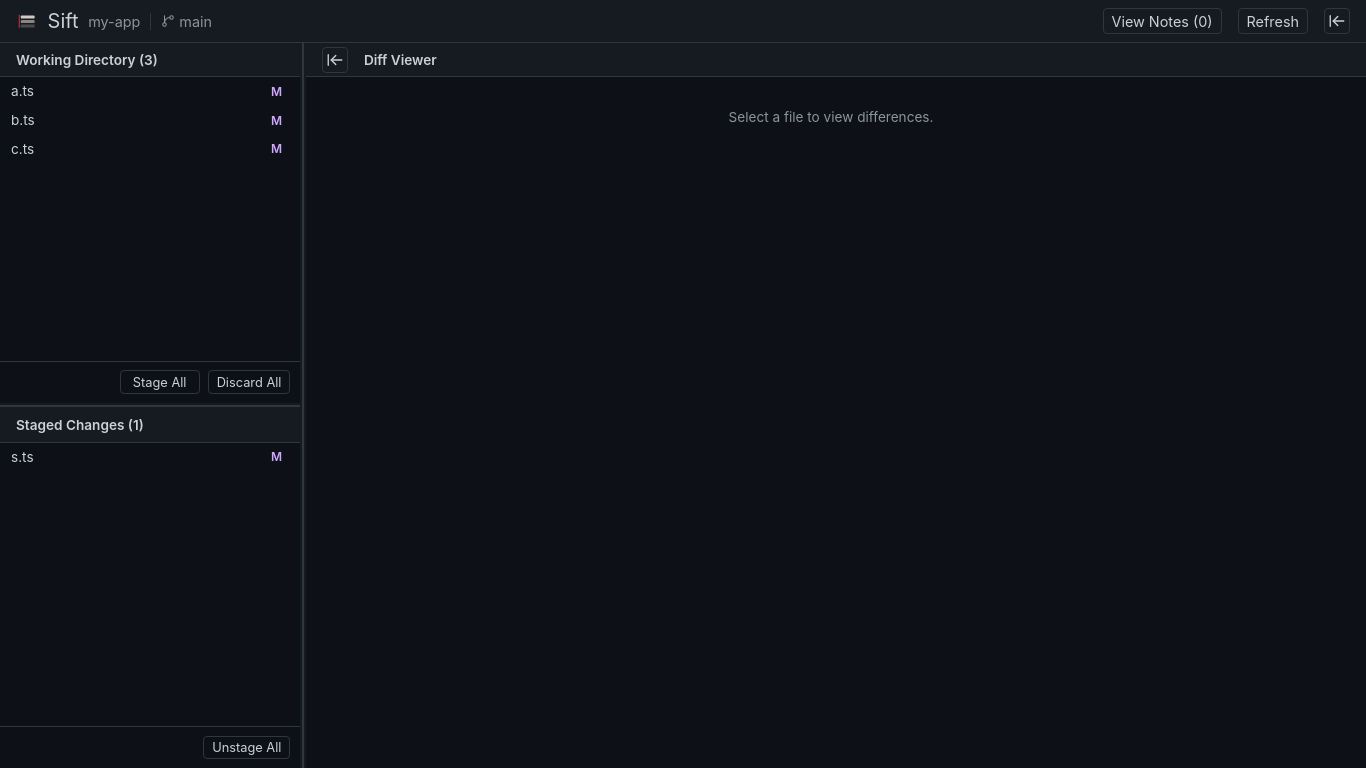
RepositoryViewerPage interactions › suspends background shortcuts while View Notes (0) is open on mac
Click the button "View Notes (0)" at (1162, 21), box [1102, 8, 1222, 34]
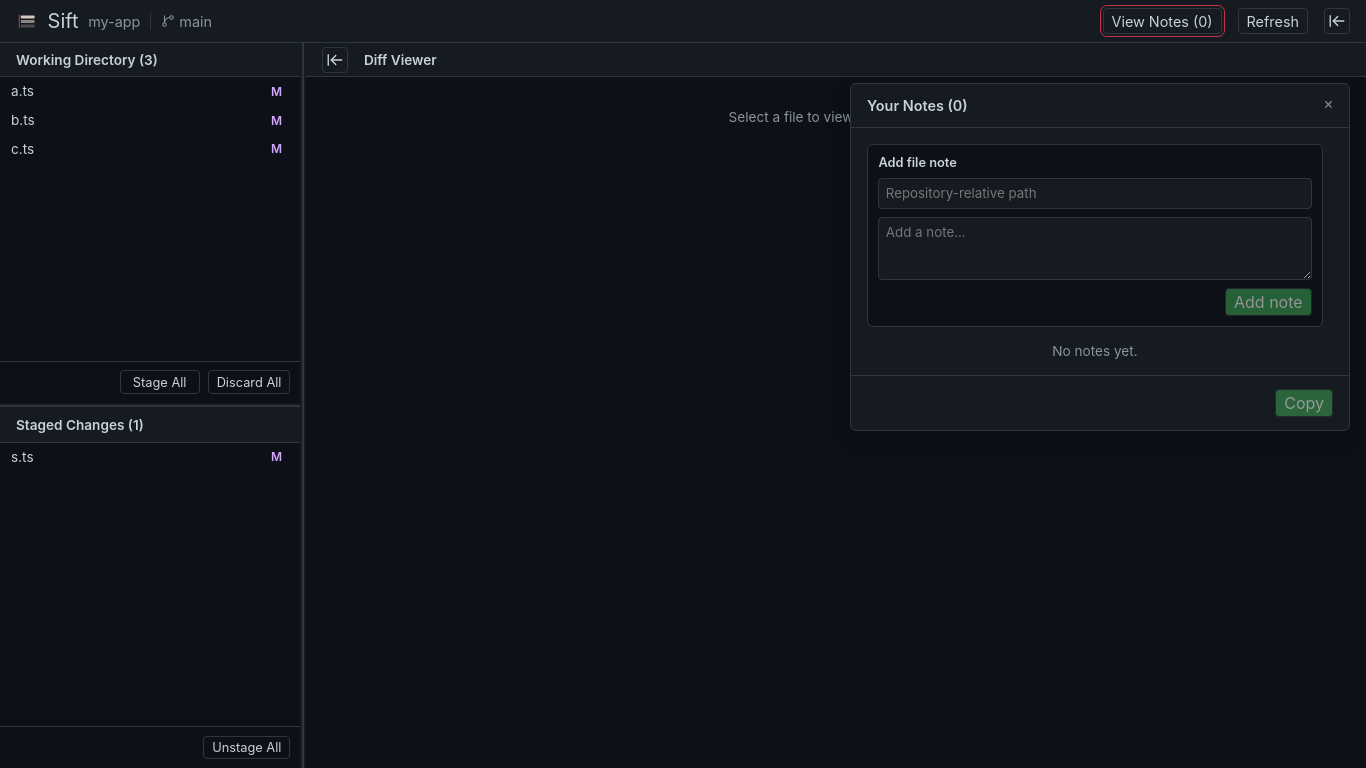
Press KeyB
Press KeyB in the element with test id "notes-modal-panel", box [850, 83, 1350, 431]
Expected: the number of lists named "Changed files" is 2, [0, 77, 290, 163]; [11, 449, 282, 465]
Expected: the button named "Hide file list" is shown, [322, 46, 348, 72]
Note: dismiss without confirming a destructive action, then retry both shortcuts
Click the button "×" at (1328, 105), box [1324, 97, 1333, 113]
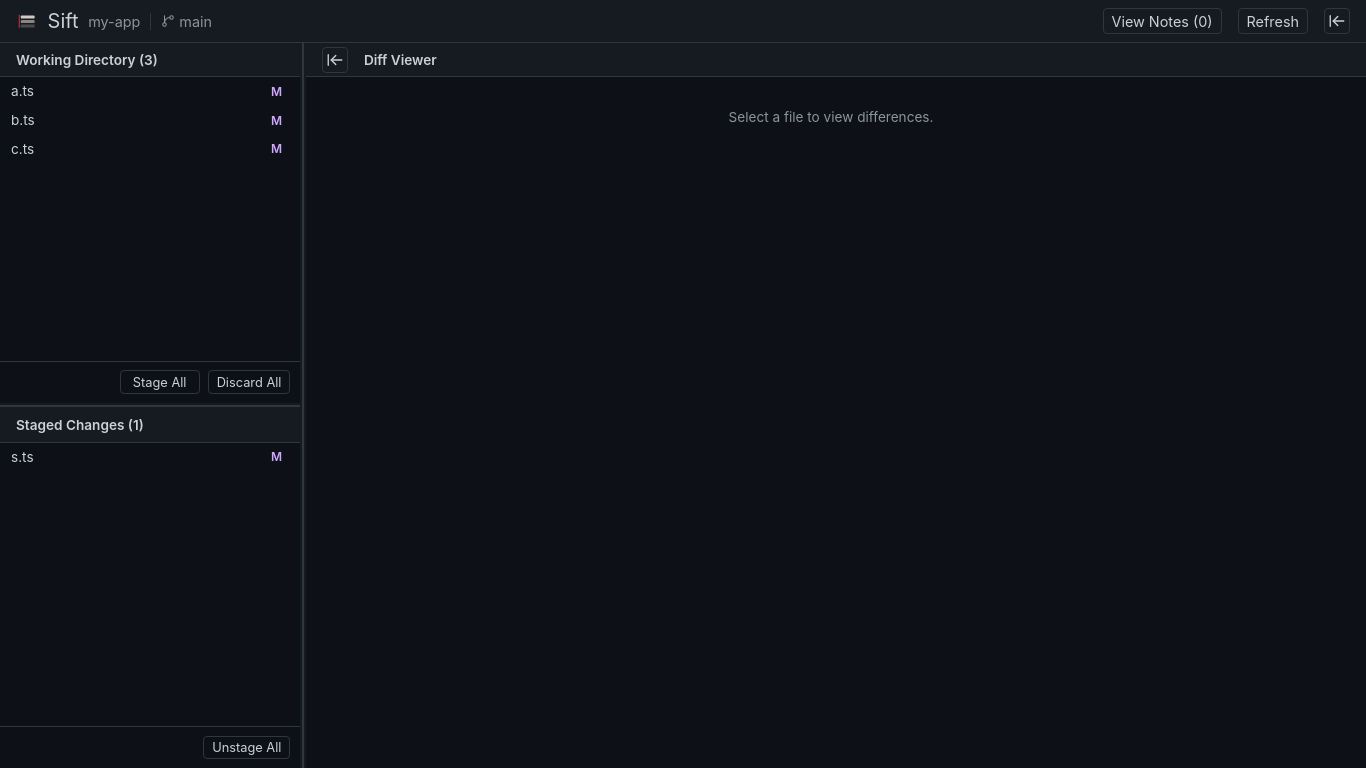
Press KeyB
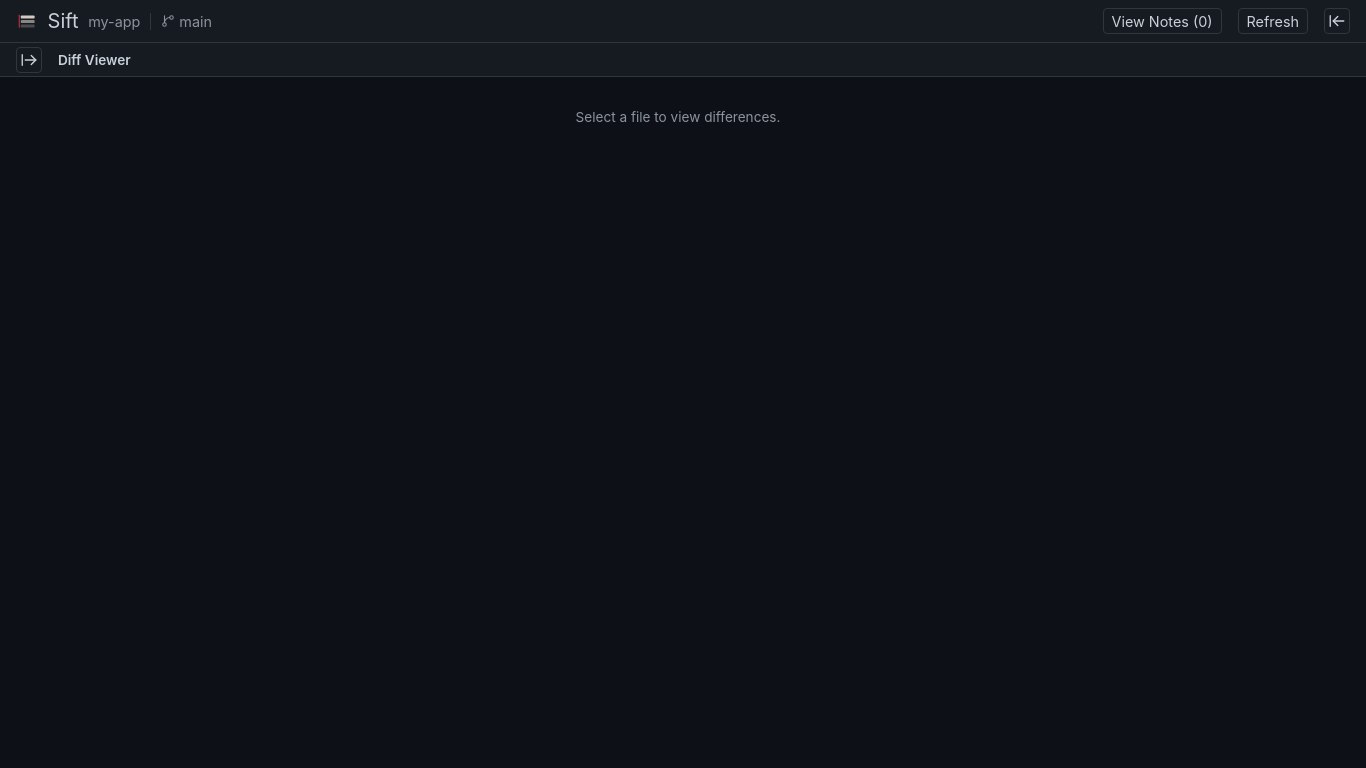
Press KeyB
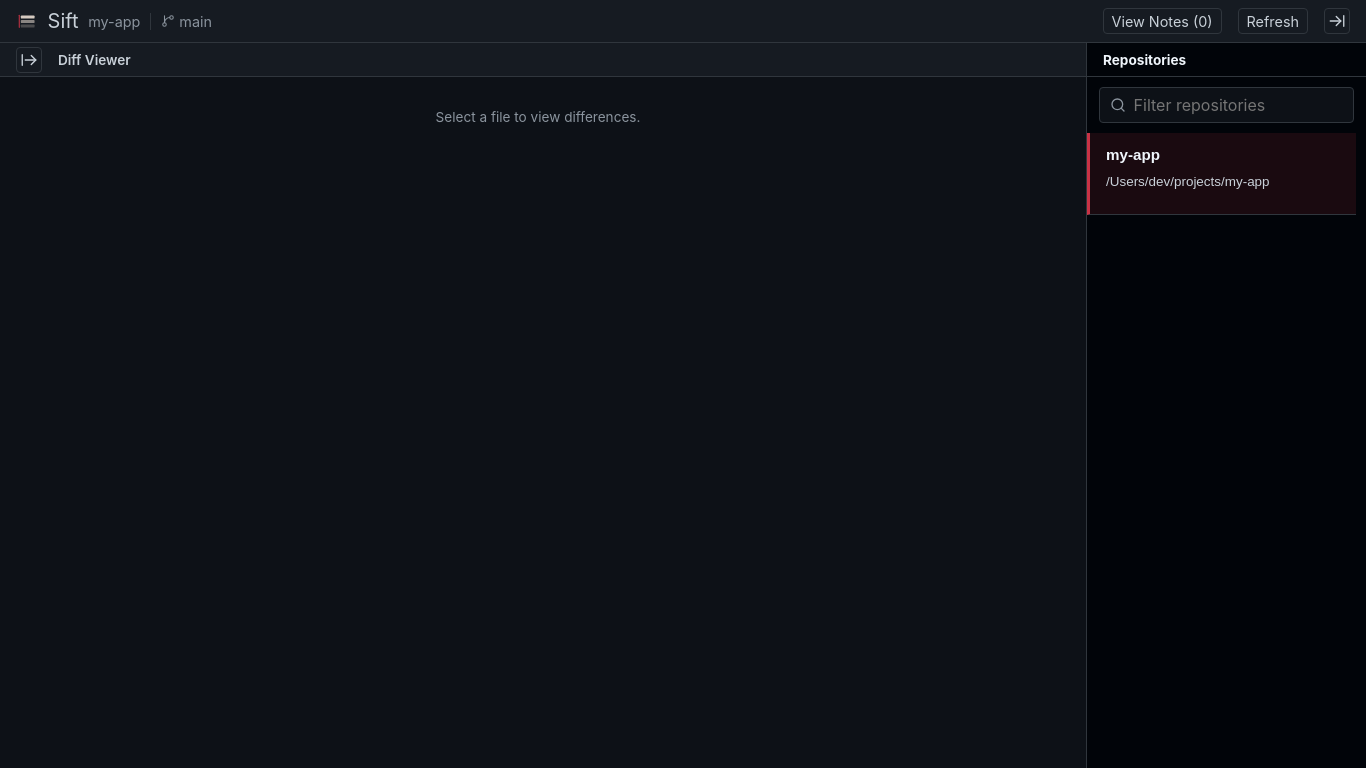
Expected: the button named "Show file list" is shown, [16, 46, 42, 72]
Expected: the element named "Repository list" is shown, [1086, 43, 1365, 767]
